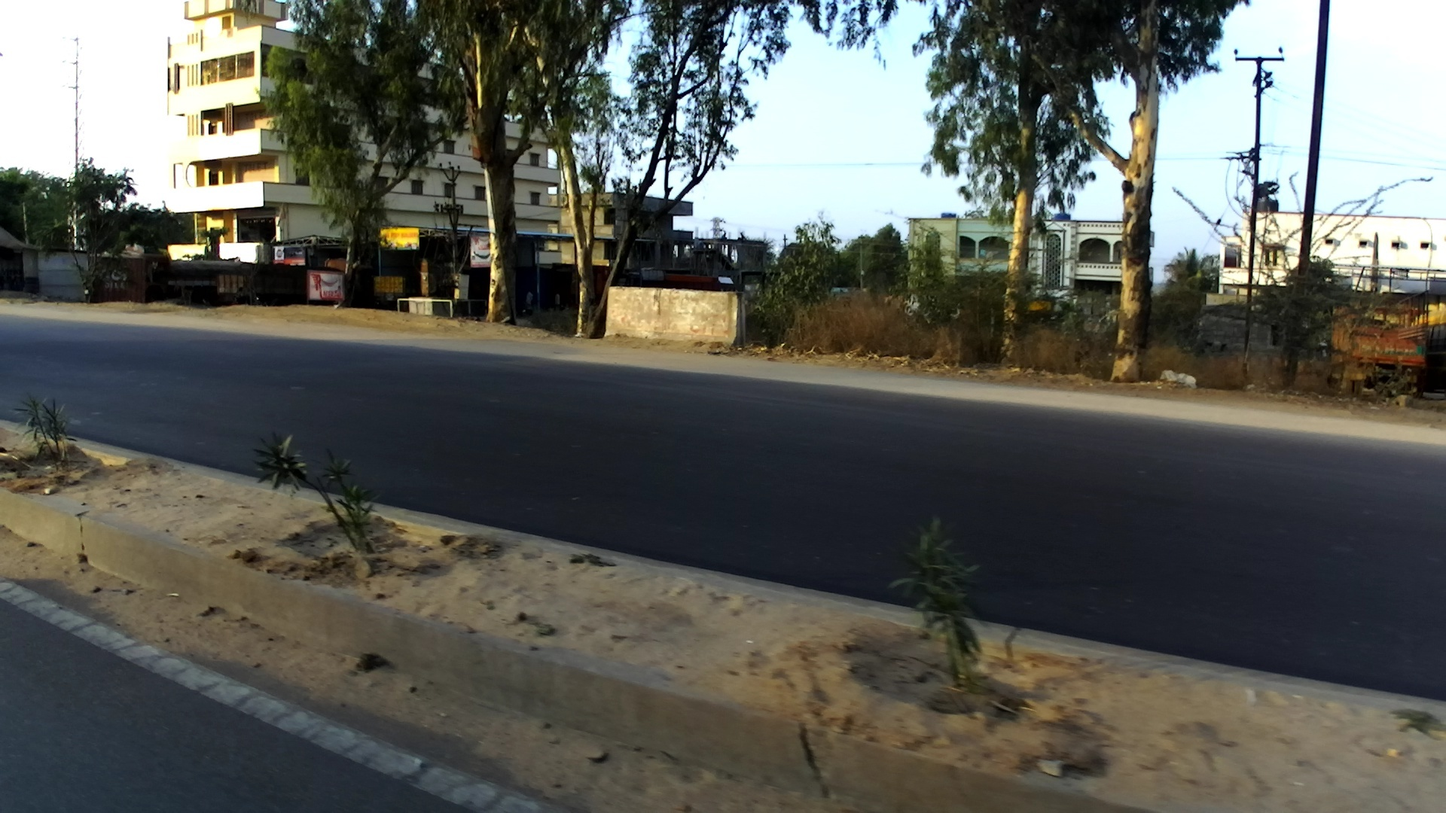motorcycle: (520, 298, 542, 318)
person: (554, 290, 563, 312)
rider: (524, 288, 538, 311)
truck: (1326, 282, 1427, 403), (215, 255, 374, 315), (164, 258, 243, 301)
